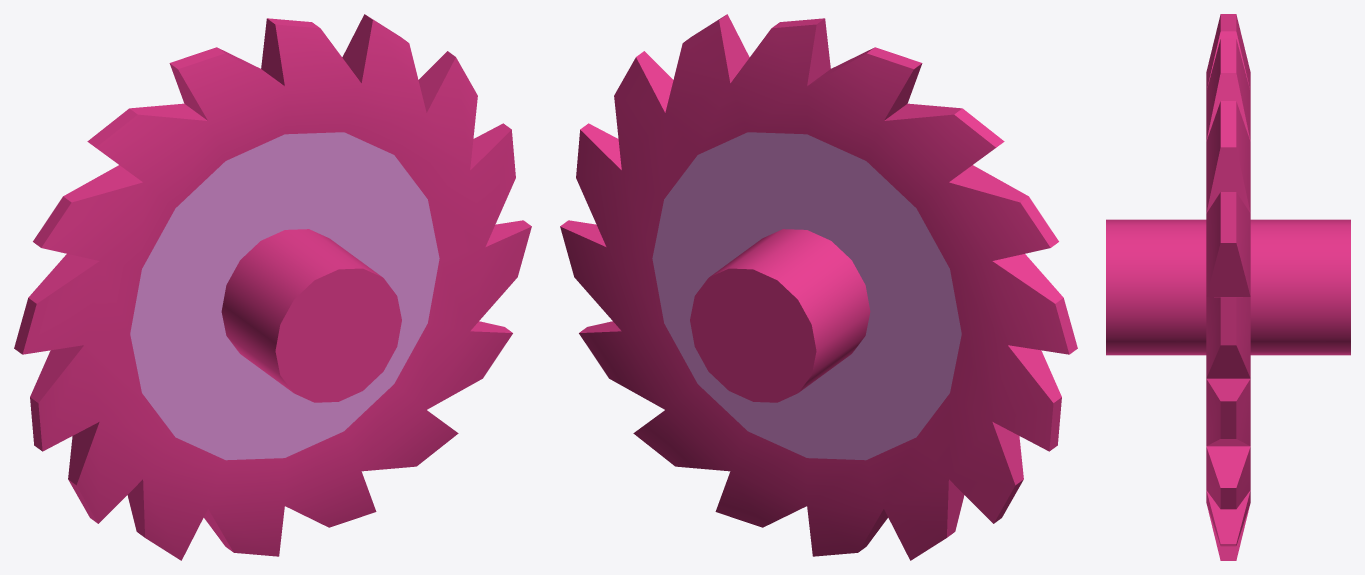
Rendered from saw.fbx.
3 views of the same model, side by side, from view 1: azimuth 30°, elevation 25°; view 2: azimuth 150°, elevation 25°; view 3: azimuth 270°, elevation 25° (orthographic). The views are drawn at different scales.
Visible parts, largest first — view 1: saw; view 2: saw; view 3: saw.
Boxes of the visible parts, bbox=[...] form: saw: bbox=[14, 14, 531, 560]; saw: bbox=[560, 14, 1077, 560]; saw: bbox=[1106, 14, 1350, 560].
Size of the model in its own units: 309 by 309 by 138.
